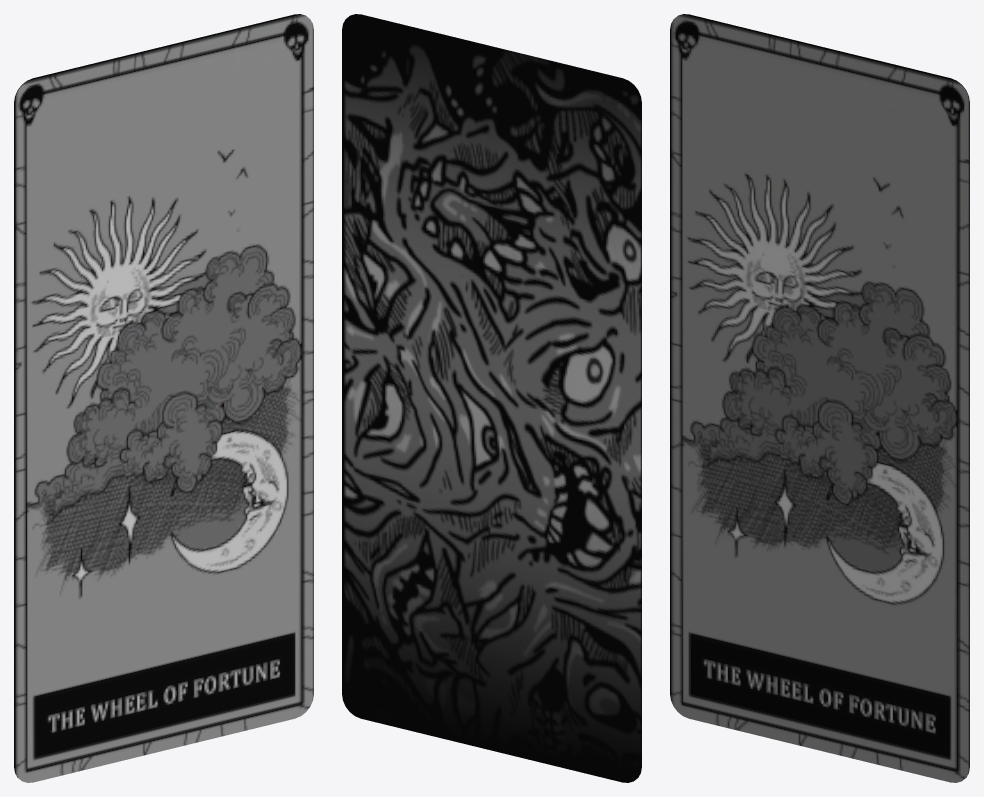
File: The wheel of fortune.gltf
The picture shows the model from 3 angles, left to right: view 1: azimuth 30°, elevation 25°; view 2: azimuth 150°, elevation 25°; view 3: azimuth 330°, elevation 25°; orthographic projection.
Parts seen in each view (by area): view 1: Plane; view 2: Plane; view 3: Plane.
Part boxes in pixels (x1,y1,x2,y2): Plane: [14, 14, 313, 782]; Plane: [342, 14, 641, 782]; Plane: [670, 14, 969, 782].
Bounding box in the file's own units: 2.22 × 4.99 × 0.005.
1 material, 1 textured.
